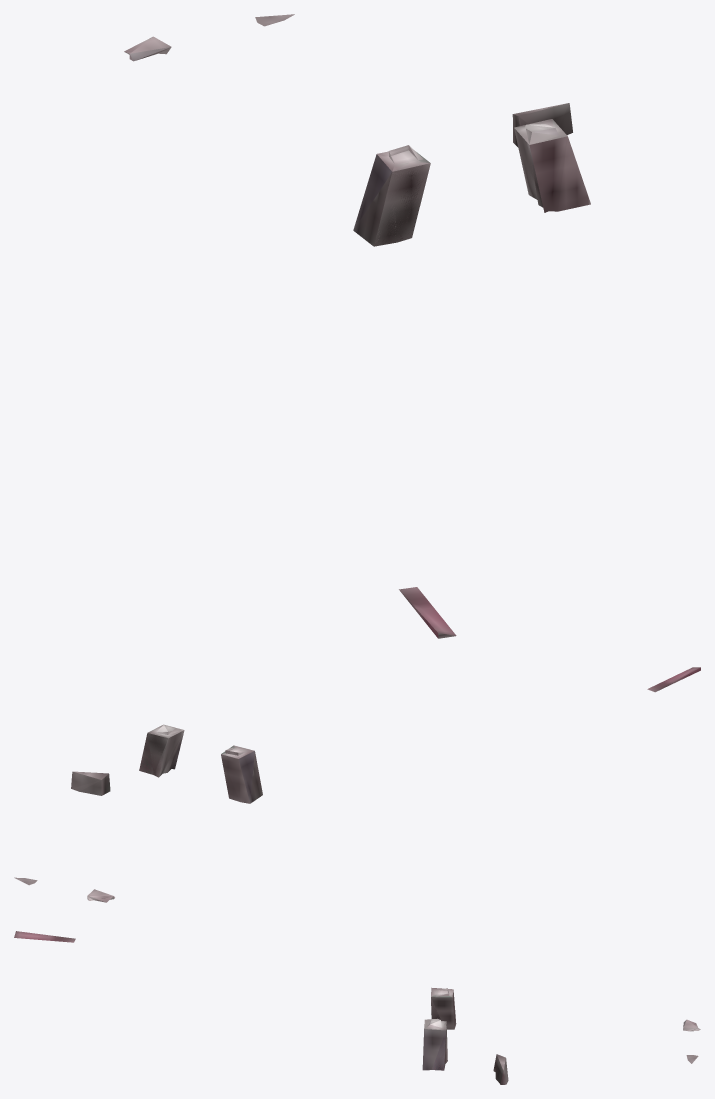
The picture shows the model from 3 angles, top to bottom: view 1: azimuth 30°, elevation 25°; view 2: azimuth 150°, elevation 25°; view 3: azimuth 270°, elevation 25°; orthographic projection. The views are drawn at different scales.
Visible parts, largest first — view 1: Mesh_0; view 2: Mesh_0; view 3: Mesh_0.
Part boxes in pixels (x1,y1,x2,y2): Mesh_0: (124,14,590,638); Mesh_0: (14,667,700,902); Mesh_0: (14,931,700,1084).
Bounding box in the file's own units: 575 × 69.57 × 1104.
Materials: 1 (1 with a texture image).
